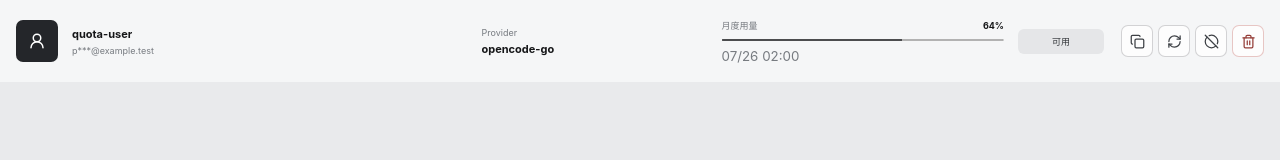
Test: AccountRow › shows a safe message when the background quota check is unavailable
Step 1. Click the button named "刷新 quota-user 月度用量" → [1174, 41], box x1=1158 y1=25 x2=1190 y2=57
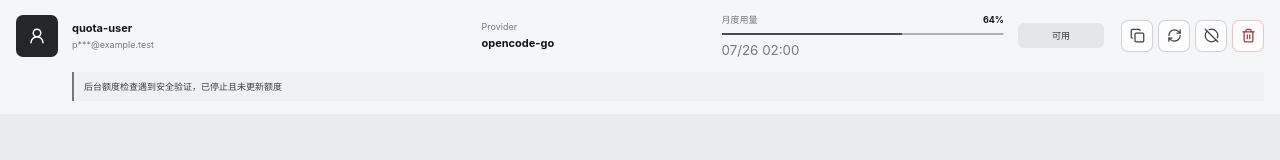
Expected: the message shows "后台额度检查遇到安全验证", x1=84 y1=81 x2=282 y2=92
